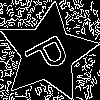P: (23, 28, 78, 79)
